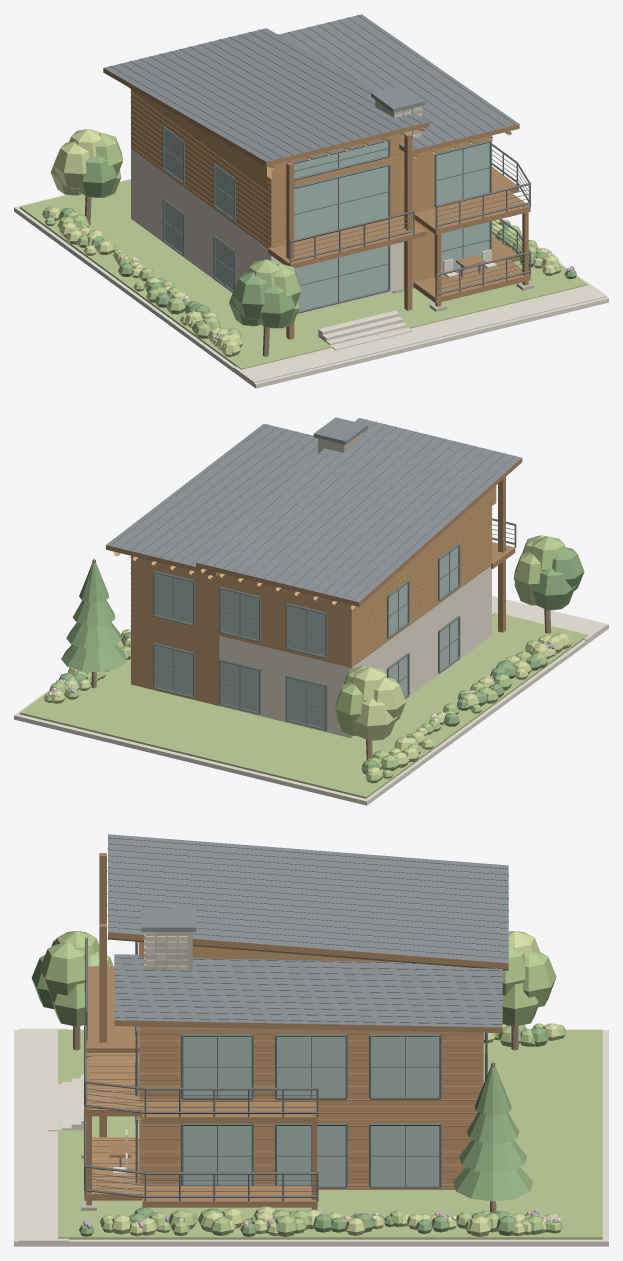
Rendered from modern-house.glb.
3 renders of one model, top to bottom at view 1: azimuth 30°, elevation 25°; view 2: azimuth 150°, elevation 25°; view 3: azimuth 270°, elevation 25°, orthographic. The views are drawn at different scales.
Visible parts, largest first — view 1: roof, glass, wood, grass, cedar, paving, ivory, leafdark, leaflight, roofline, frame, leaf (+3 smaller); view 2: roof, grass, cedar, glass, ivory, leafdark, paving, leaf, leaflight, roofline, wood, frame; view 3: roof, grass, wood, glass, cedar, paving, roofline, leaf, leafdark, frame, metal, leaflight (+3 smaller).
Part boxes in pixels (x1,y1,x2,y2): roof: [104, 14, 519, 161]; glass: [164, 130, 489, 310]; wood: [103, 68, 530, 339]; grass: [20, 179, 587, 369]; cedar: [128, 87, 491, 288]; paving: [14, 179, 608, 388]; ivory: [131, 148, 496, 314]; leafdark: [46, 155, 576, 331]; leaflight: [46, 129, 559, 356]; roofline: [110, 15, 515, 159]; frame: [162, 126, 491, 313]; leaf: [42, 133, 561, 338]; roof: [106, 417, 521, 602]; grass: [20, 613, 587, 798]; cedar: [131, 485, 496, 705]; glass: [155, 547, 458, 728]; ivory: [219, 566, 491, 738]; leafdark: [59, 547, 584, 779]; paving: [14, 596, 608, 805]; leaf: [44, 535, 565, 783]; leaflight: [51, 629, 571, 776]; roofline: [110, 419, 515, 600]; wood: [106, 458, 522, 679]; frame: [153, 543, 460, 730]; roof: [108, 834, 508, 1027]; grass: [58, 1029, 602, 1239]; wood: [84, 853, 508, 1209]; glass: [183, 1037, 439, 1185]; cedar: [139, 942, 483, 1189]; paving: [14, 1028, 608, 1246]; roofline: [108, 837, 508, 1024]; leaf: [39, 931, 566, 1236]; leafdark: [31, 939, 550, 1236]; frame: [135, 941, 487, 1188]; metal: [84, 937, 318, 1201]; leaflight: [100, 931, 560, 1236].
Bounding box in the file's own units: 16 × 8.46 × 19.
